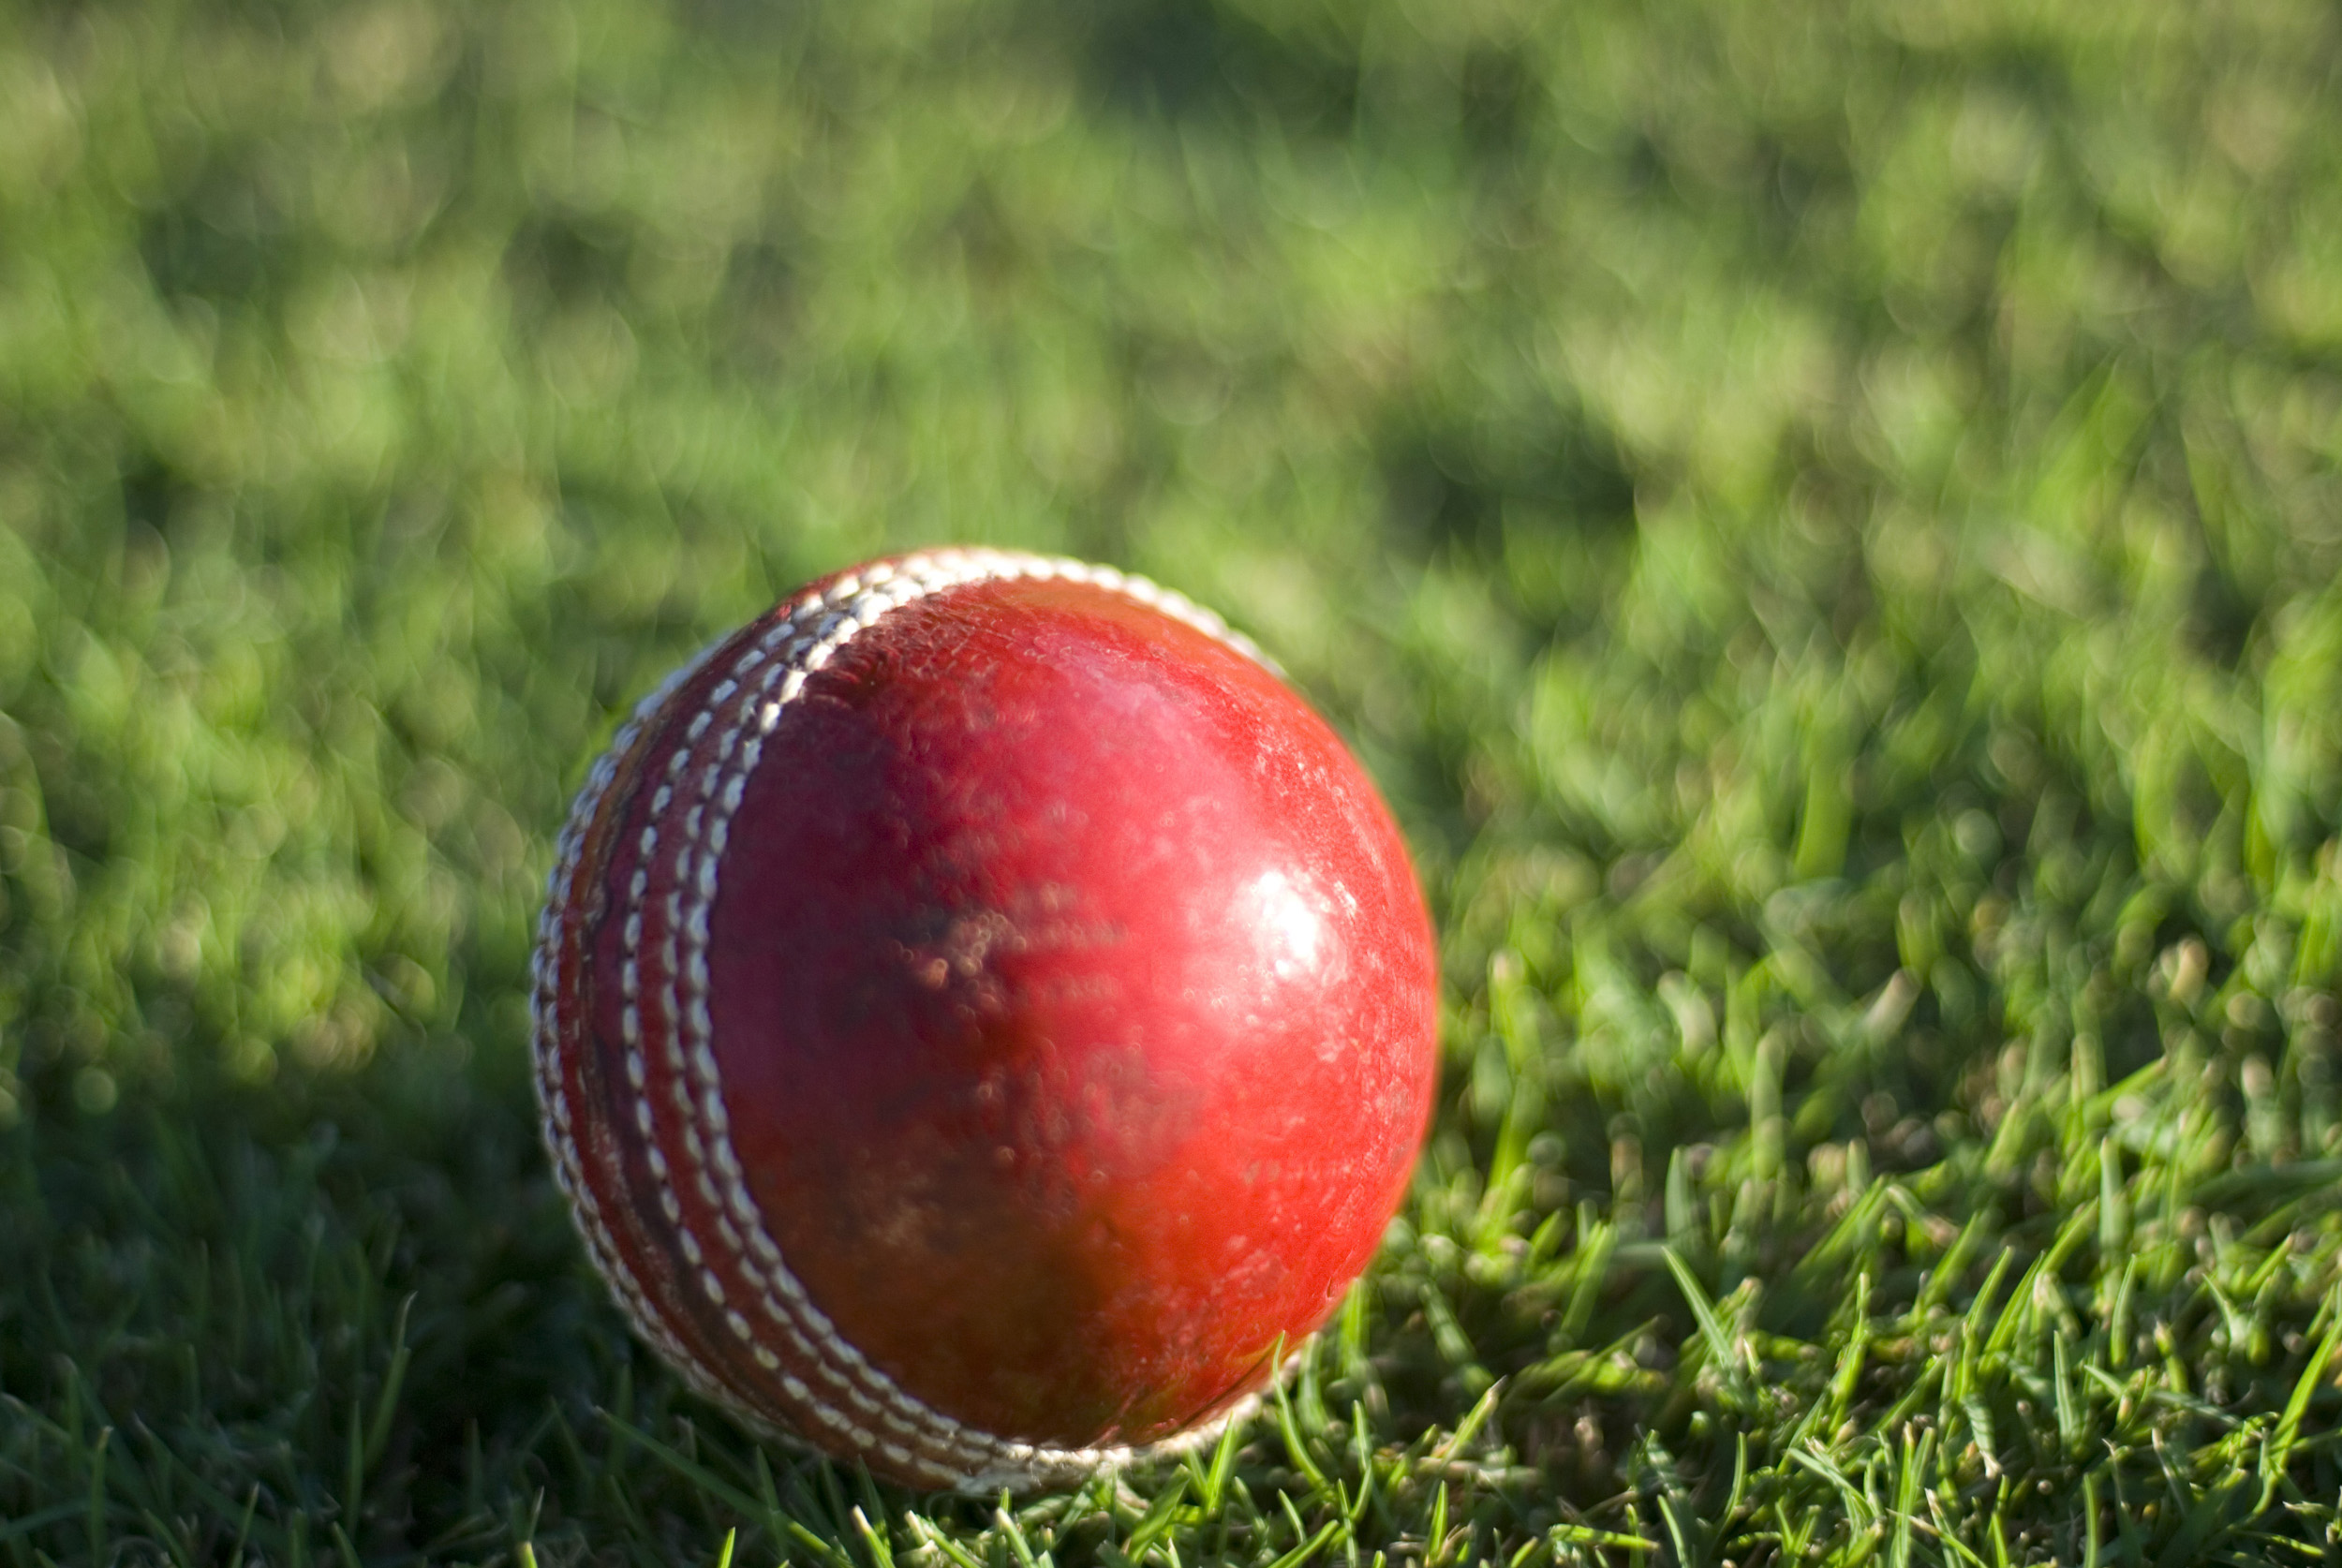red ball: (527, 541, 1448, 1498)
